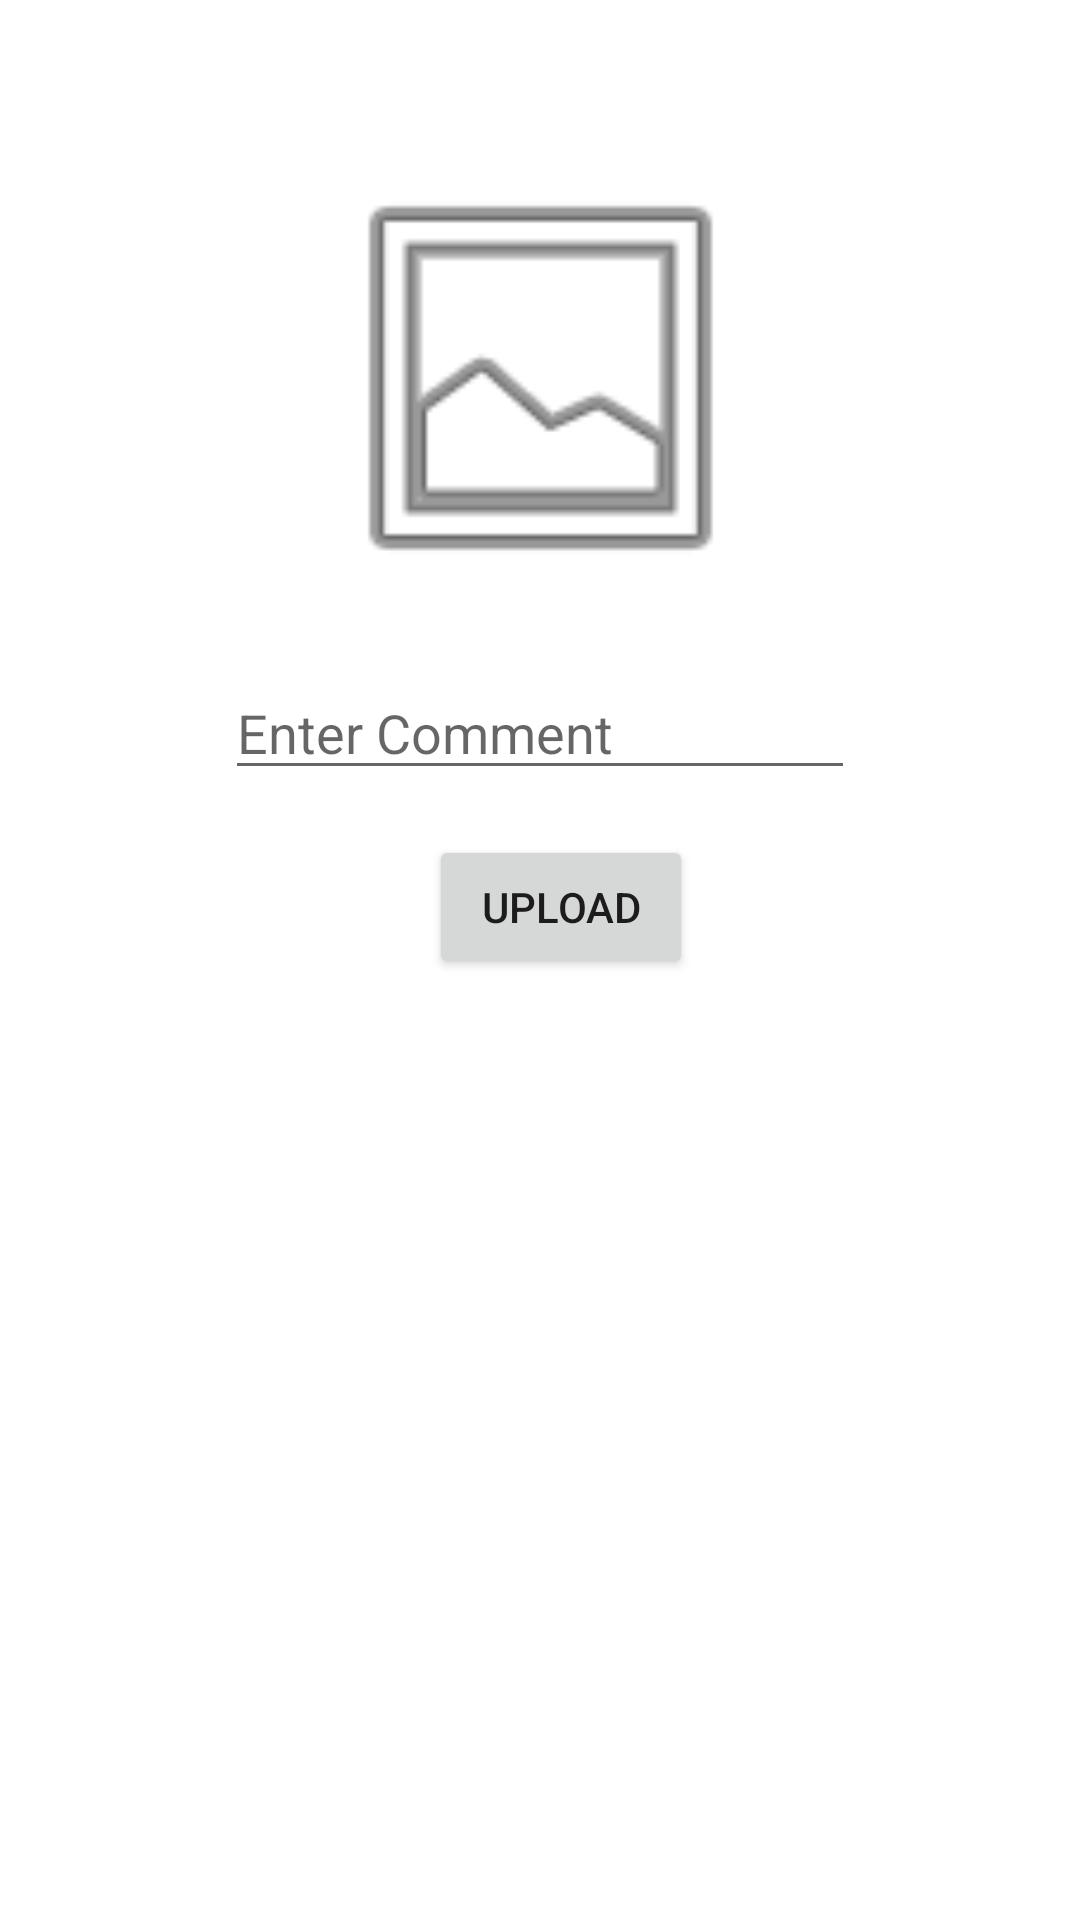

Icons on this 1080*1920 Android screen, each with the point to tap as (x,y):
gallery: (540,378)
